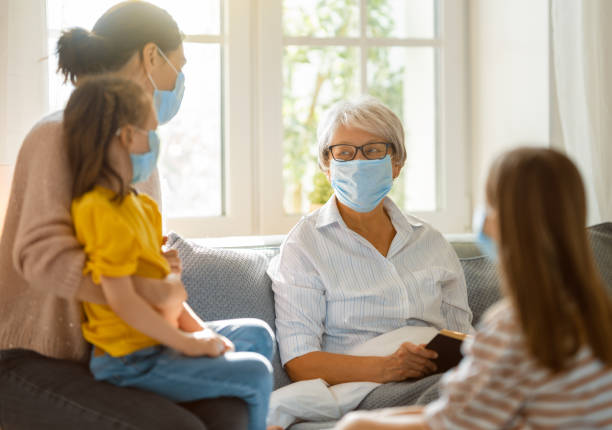with mask: (328, 115, 400, 214), (125, 25, 197, 124), (95, 92, 166, 187)
